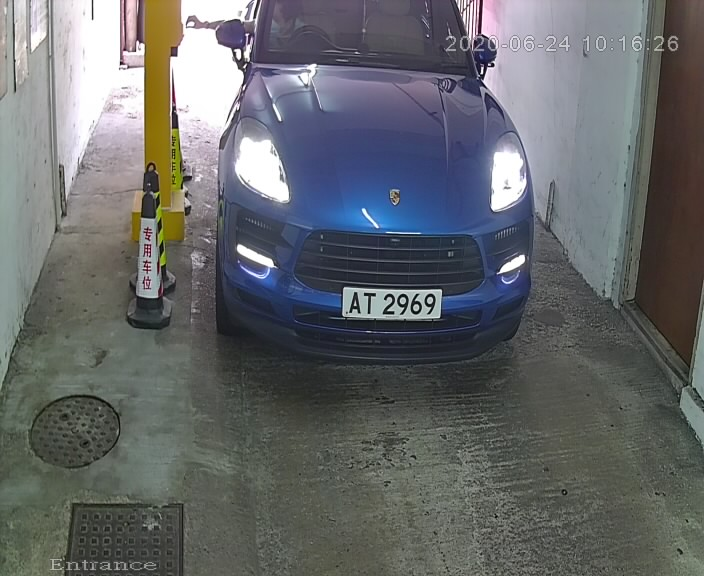Car: (179, 1, 551, 399)
License Plate: (340, 283, 447, 328)
